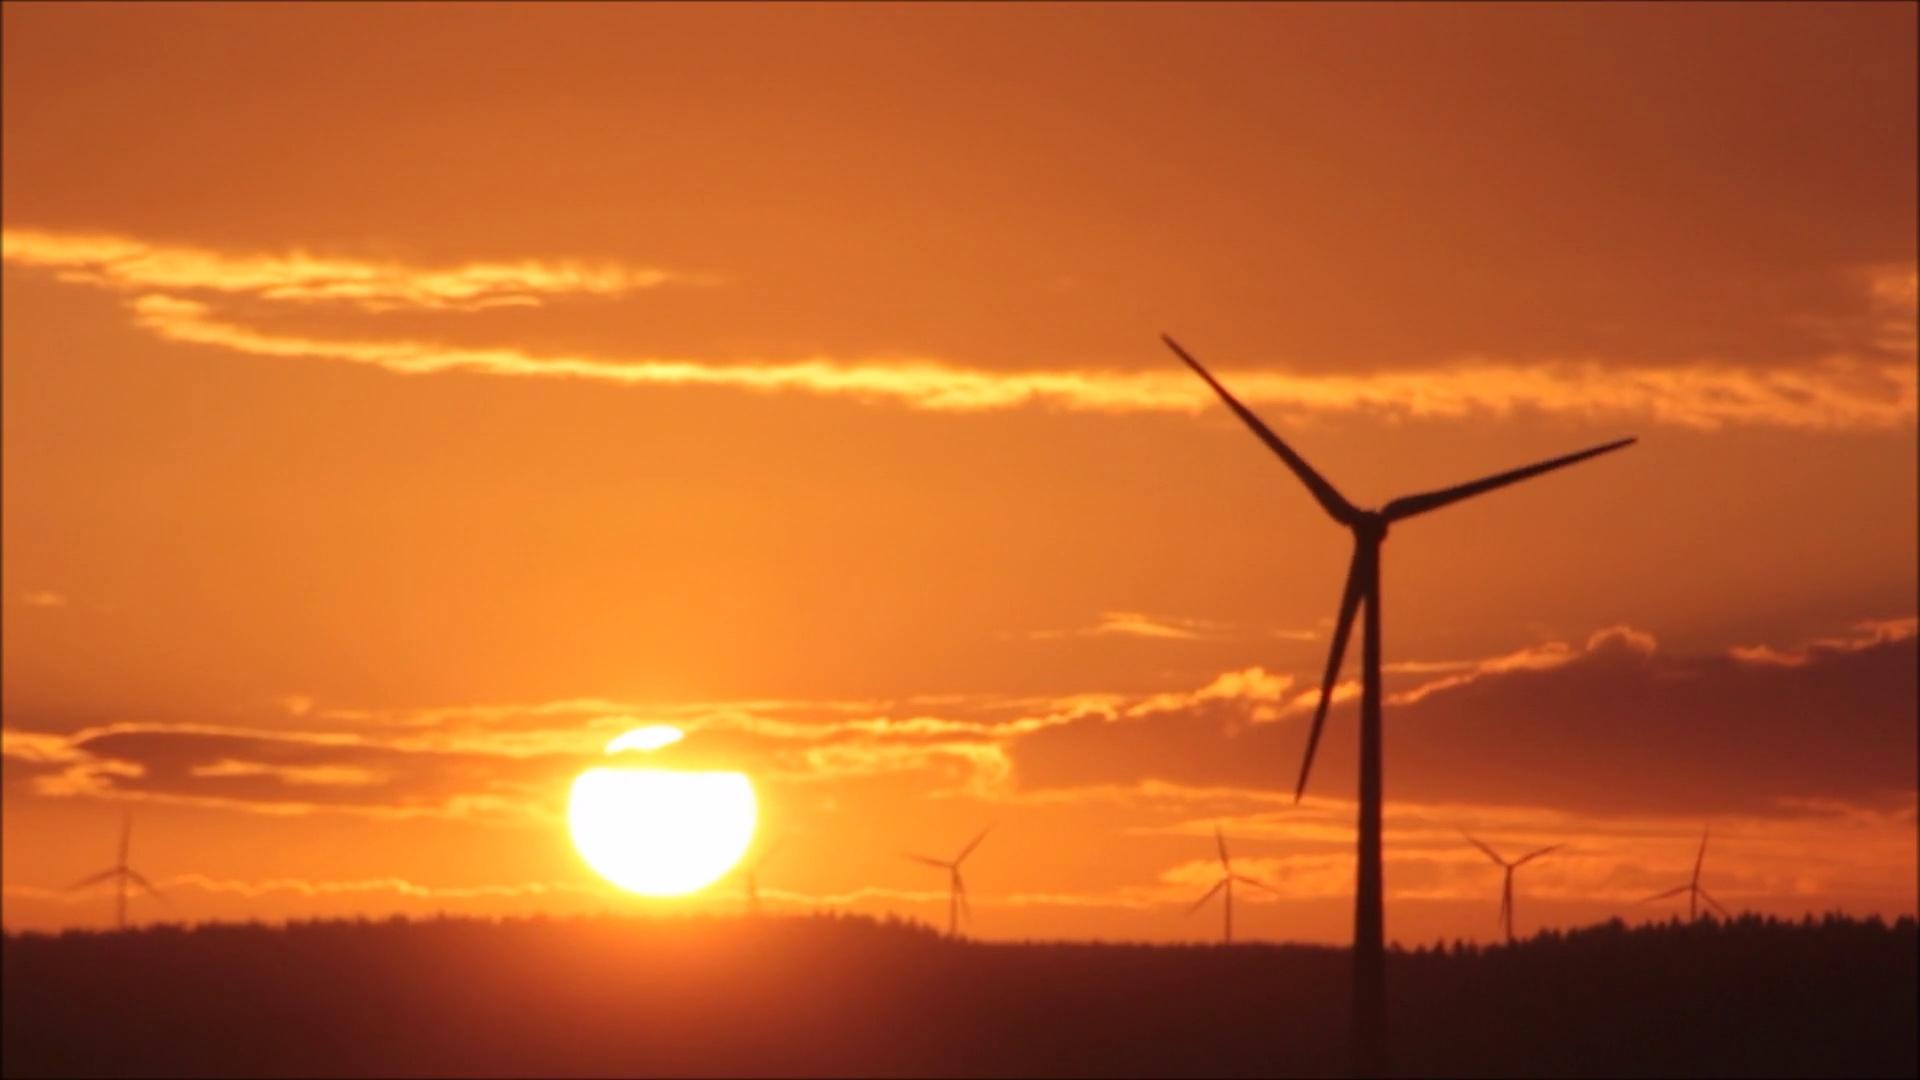turbine: (1146, 253, 1700, 957), (40, 787, 204, 953), (1159, 806, 1304, 973), (891, 804, 1029, 971), (1456, 794, 1580, 960), (1631, 810, 1763, 963), (713, 819, 815, 945)
